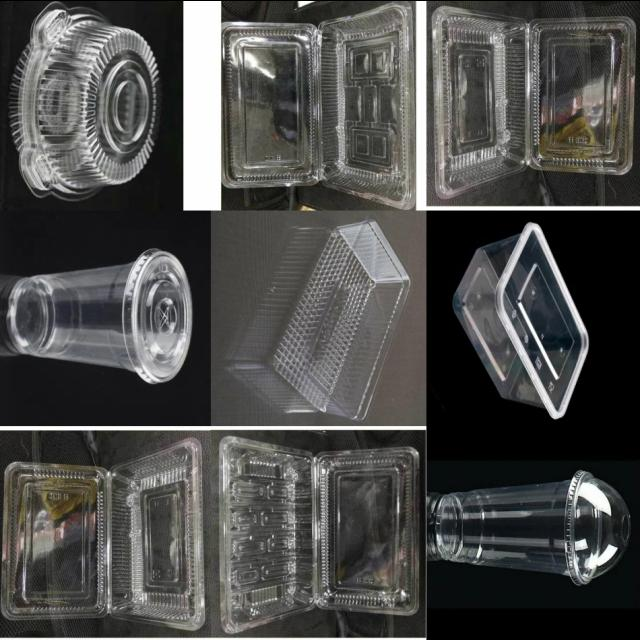plastik: (223, 0, 413, 209), (219, 436, 420, 632), (432, 4, 636, 197), (1, 437, 205, 629), (10, 3, 159, 199), (274, 219, 411, 420), (453, 221, 589, 417), (6, 248, 192, 383), (427, 470, 631, 584)
